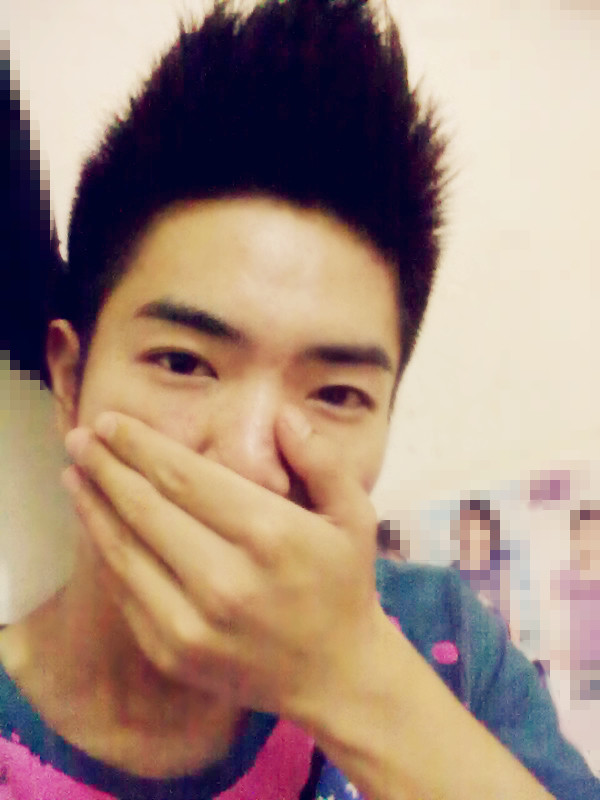face: (76, 256, 389, 672)
